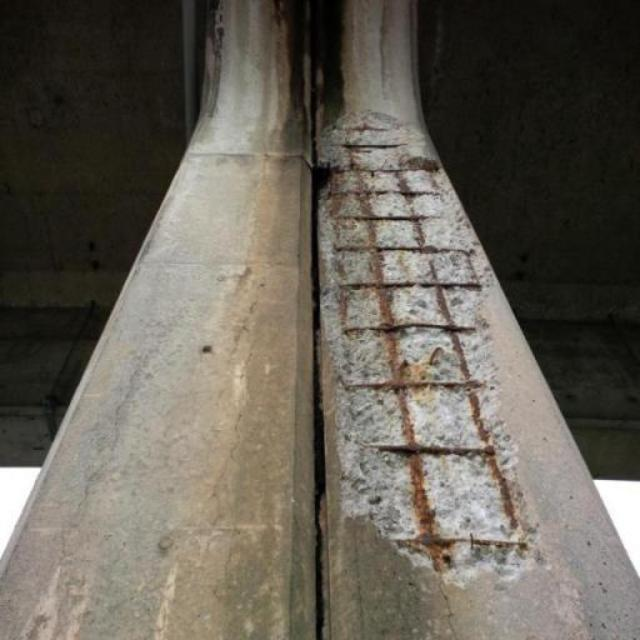D0w0: (314, 110, 540, 583)
